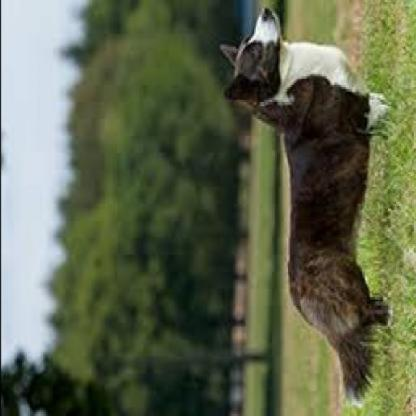dog: (218, 6, 392, 409)
